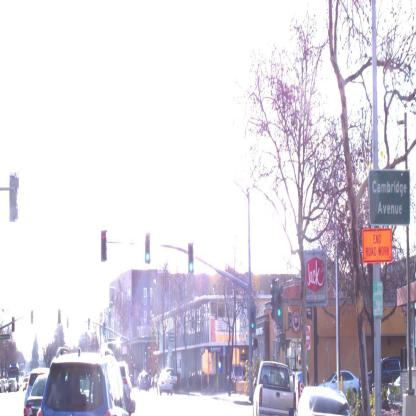bus: (255, 361, 296, 416), (7, 362, 20, 389)
car: (36, 352, 136, 416), (295, 384, 357, 416), (320, 365, 364, 404), (360, 356, 402, 390), (22, 371, 50, 416), (156, 368, 173, 397), (138, 369, 152, 392), (166, 368, 179, 388)
sign: (368, 166, 411, 230), (361, 226, 394, 264), (372, 279, 385, 318), (168, 331, 176, 343), (0, 334, 10, 340)
traffic light: (269, 278, 284, 328), (9, 172, 21, 226), (186, 239, 196, 276), (248, 302, 257, 334), (102, 230, 110, 262), (144, 232, 152, 264), (252, 335, 258, 351), (12, 314, 15, 334), (30, 310, 34, 324), (58, 306, 61, 324)
